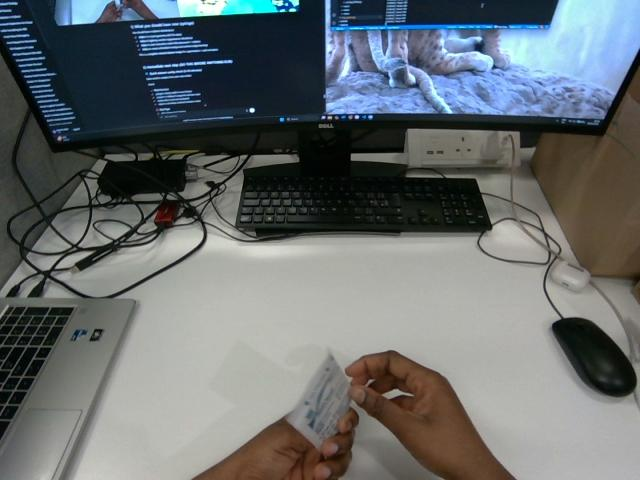gauze: (286, 352, 349, 449)
